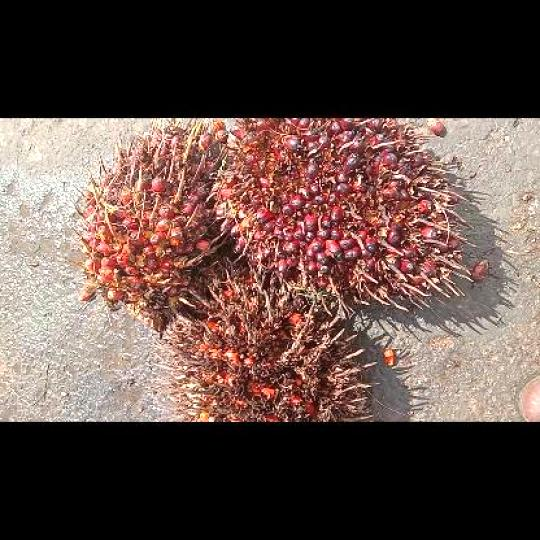masak: (212, 118, 473, 308), (66, 118, 230, 331)
terlalu masak: (152, 263, 378, 417)
